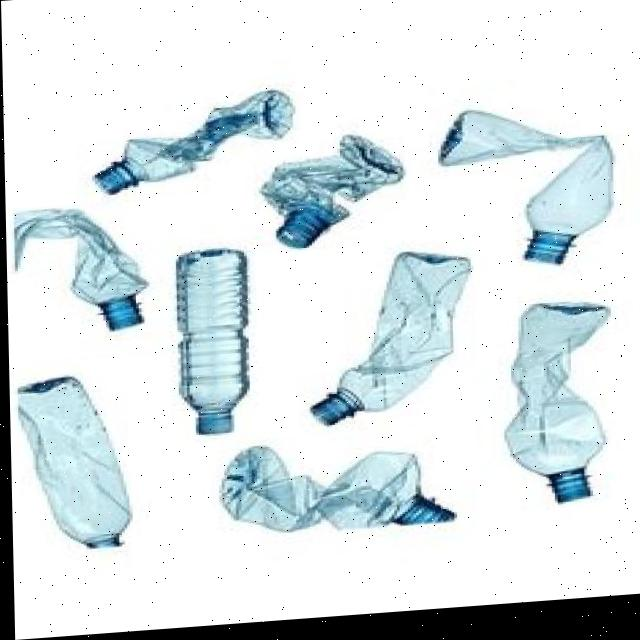bottle: (438, 88, 640, 281), (19, 72, 307, 207), (298, 244, 472, 448), (480, 303, 623, 519), (148, 238, 267, 443)
